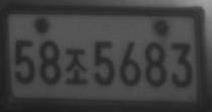3: (170, 42, 193, 88)
5: (13, 40, 35, 84), (93, 40, 114, 85)
6: (119, 42, 140, 86)
8: (144, 42, 167, 87), (39, 40, 60, 84)
조: (64, 48, 88, 85)
